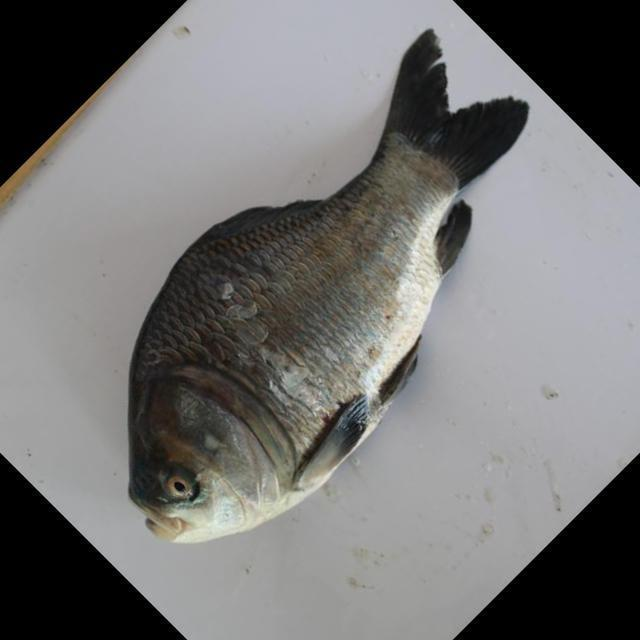Indian Carp: (129, 32, 530, 555)
